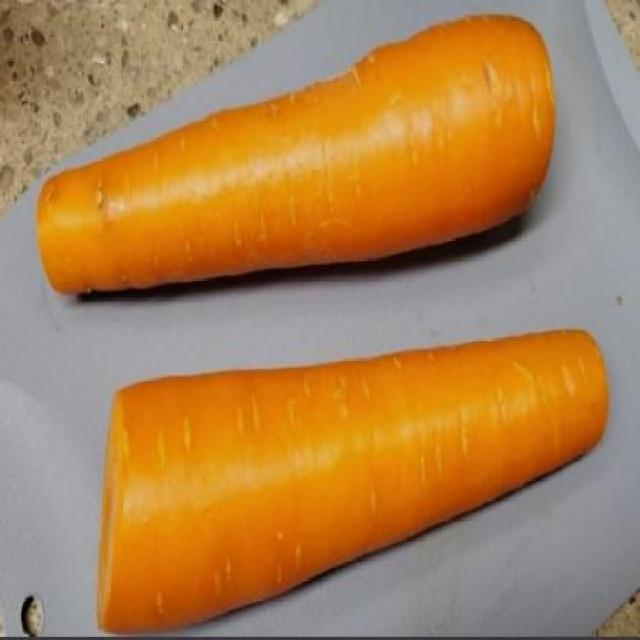carrot: (34, 10, 554, 312), (92, 328, 608, 632)
